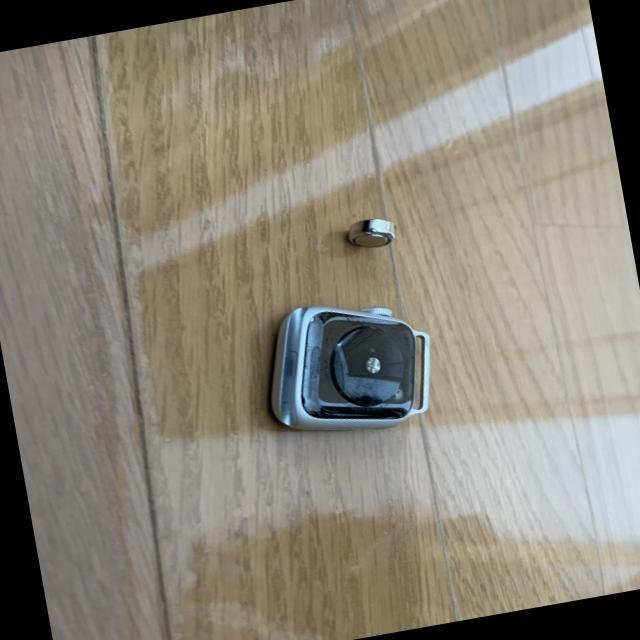COIN: (342, 214, 398, 251)
